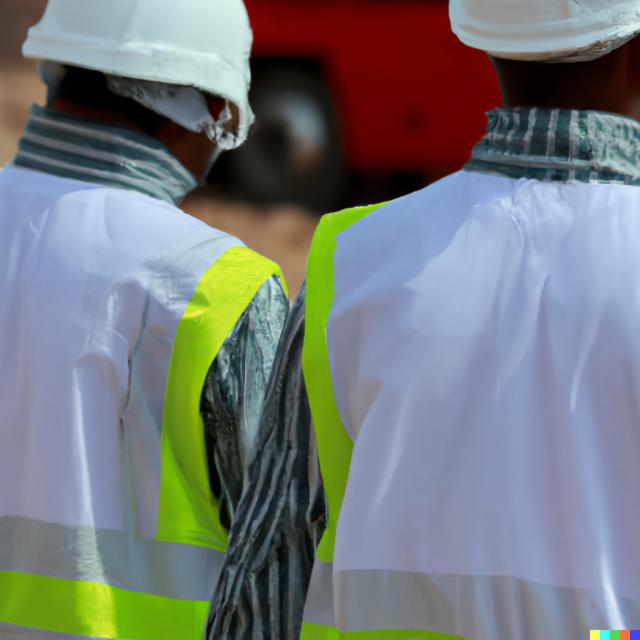Reflective-Jacket: (288, 153, 640, 640), (5, 149, 283, 640)
Safety-Helmet: (18, 0, 266, 120), (441, 0, 640, 64)
